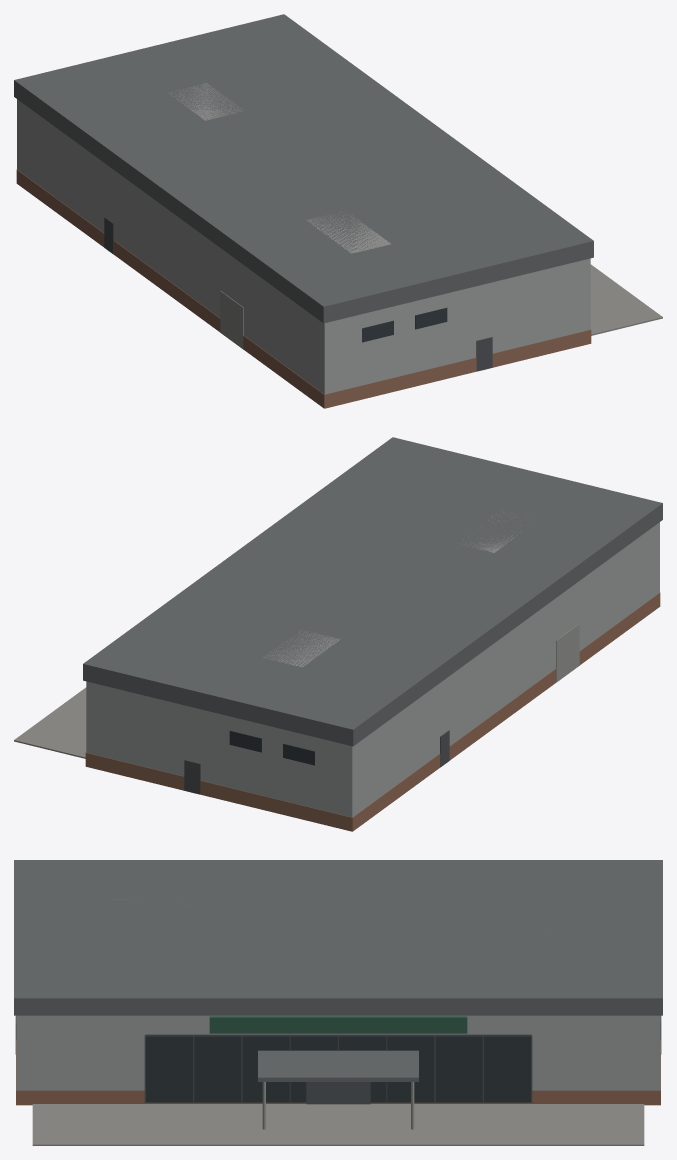
File: SM_Prop_services_hall_0_LOD1.glb
The picture shows the model from 3 angles, top to bottom: view 1: azimuth 30°, elevation 25°; view 2: azimuth 150°, elevation 25°; view 3: azimuth 270°, elevation 25°; orthographic projection. The views are drawn at different scales.
Parts seen in each view (by area): view 1: SM_Prop_services_hall_0_LOD1; view 2: SM_Prop_services_hall_0_LOD1; view 3: SM_Prop_services_hall_0_LOD1.
Boxes of the visible parts, <box> form: SM_Prop_services_hall_0_LOD1: <box>14,14,662,408</box>; SM_Prop_services_hall_0_LOD1: <box>14,437,662,831</box>; SM_Prop_services_hall_0_LOD1: <box>14,860,662,1145</box>.
Bounding box in the file's own units: 26.15 × 7.4 × 40.3.
